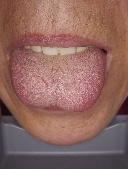tongue: (10, 57, 105, 113)
